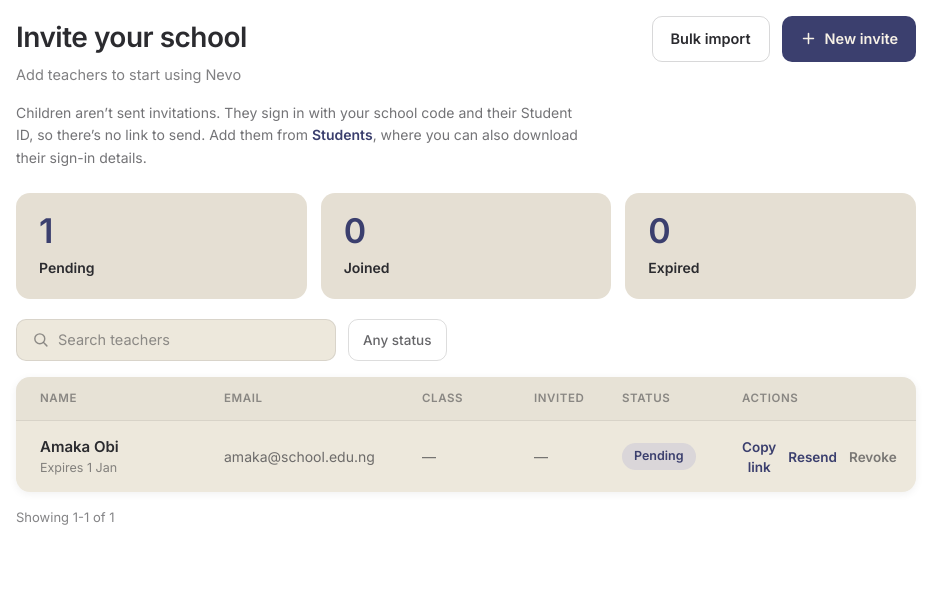
Test: a confirmed resend › keeps the row when the answer carries only what the backend sends
This screenshot has width=933, height=594.
Expected: the text "Amaka Obi" is shown, [40,437,119,456]
What coordinates should you click on to do the following:
click the button "Resend"
I would click on:
 (813, 457)
Its box is [788,447,837,467].
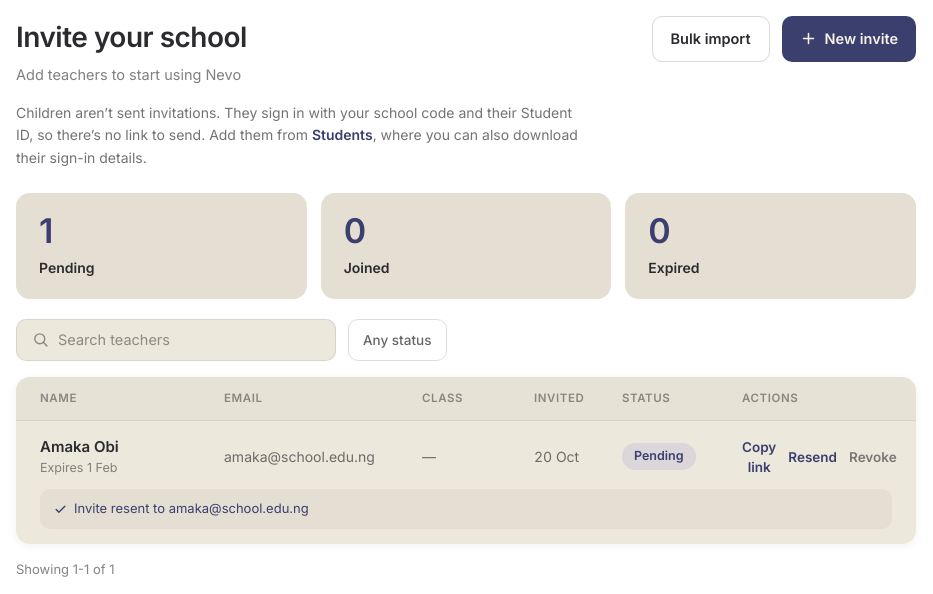
Now the text "Invite resent to amaka@school.edu.ng" is shown, box [40,489,892,529]
